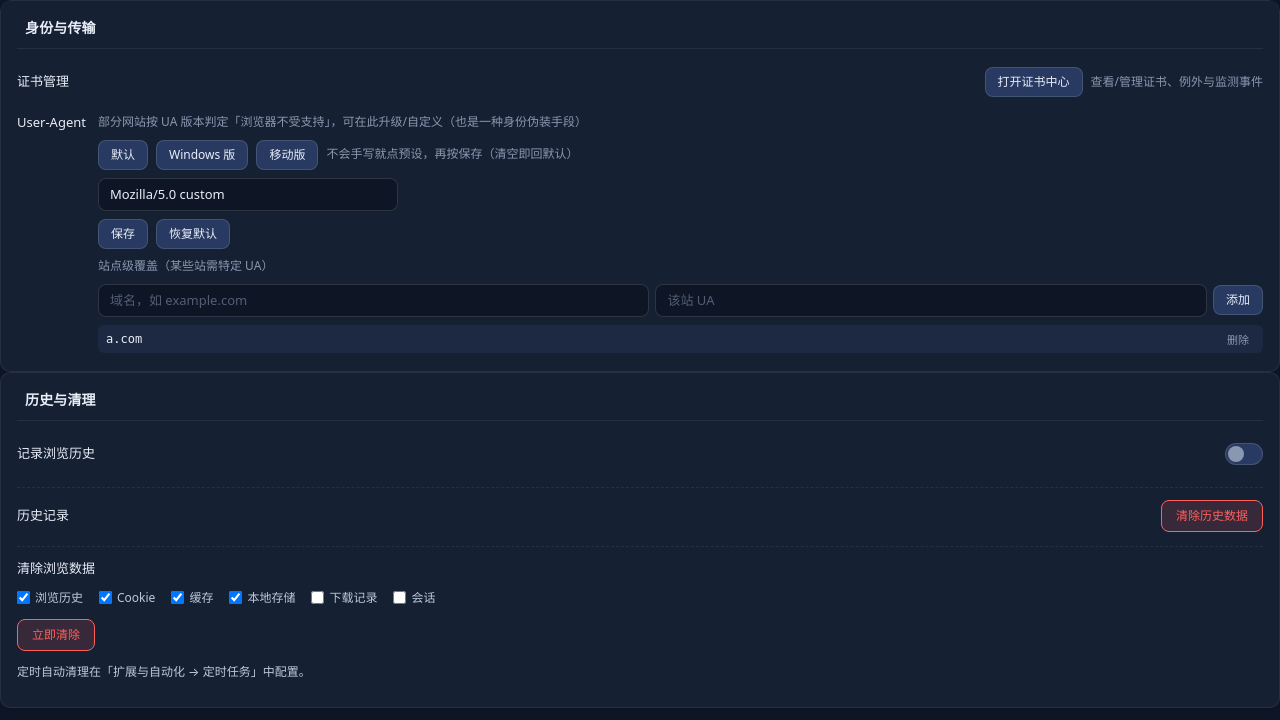
Test: PrivacyDataCard · User-Agent 管理 › 保存 UA：set_user_agent {ua} + toast + 重拉 + msg
Replace the text in the 1st field with class "ua-input" with "Mozilla/5.0 new" at (248, 194), box top-left (98, 178), bottom-right (398, 211)
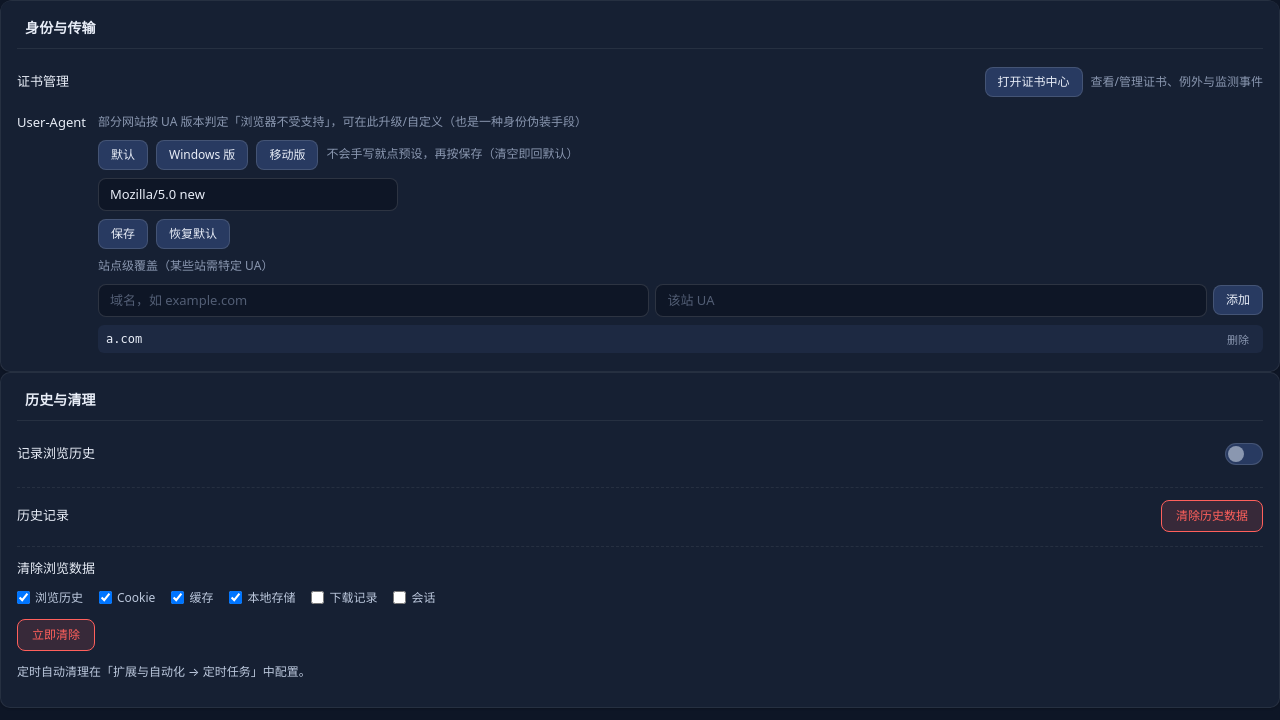
按文案定位：.history-actions 首个 mini-btn 是「打开证书中心」，不是保存
Click the button "保存" at (123, 234), box top-left (98, 219), bottom-right (148, 249)
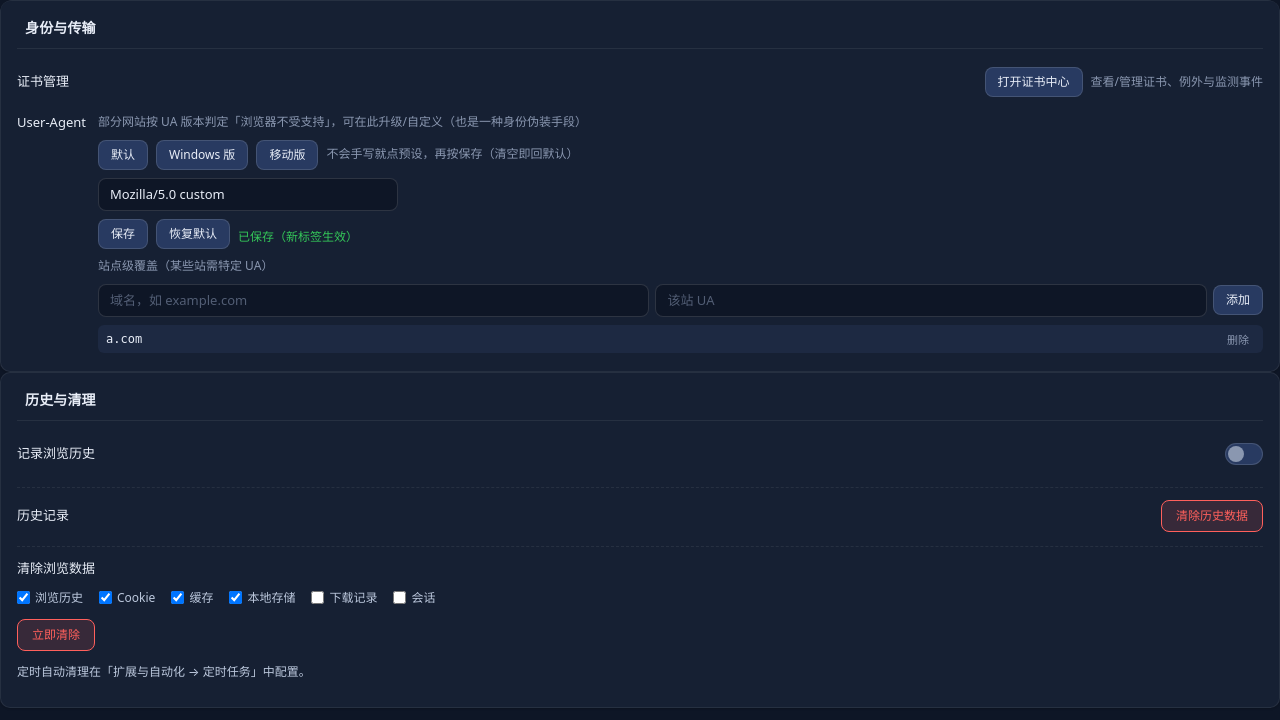
Check: the text with class "cleared-msg" shows "已保存", box top-left (238, 228), bottom-right (358, 245)
